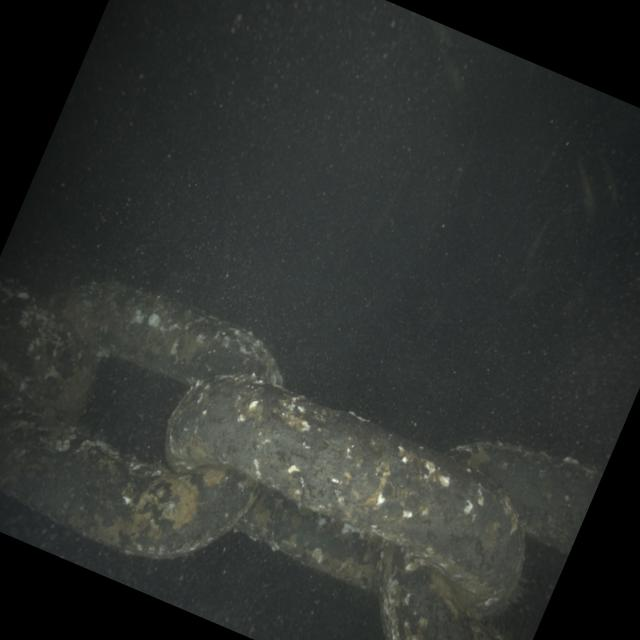ChainLink: (165, 376, 523, 612), (0, 387, 259, 558), (62, 283, 279, 384), (451, 442, 601, 552), (0, 284, 100, 411), (379, 547, 514, 640)
